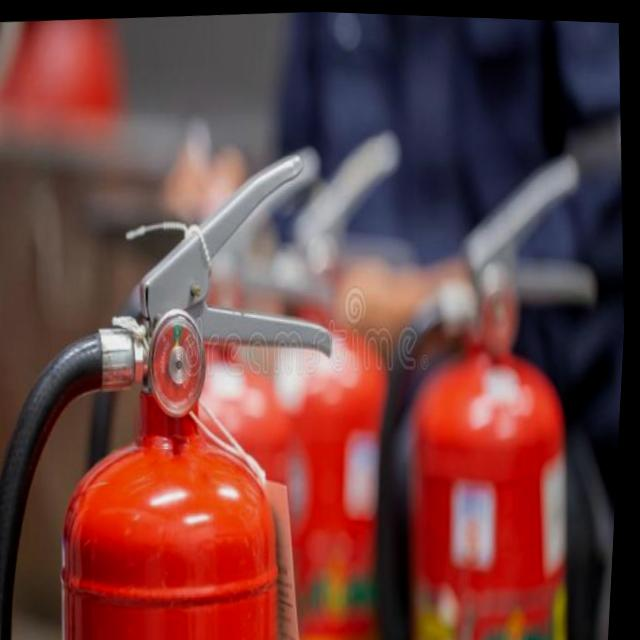FireExtinguisher: (0, 129, 372, 640), (349, 136, 635, 640)
